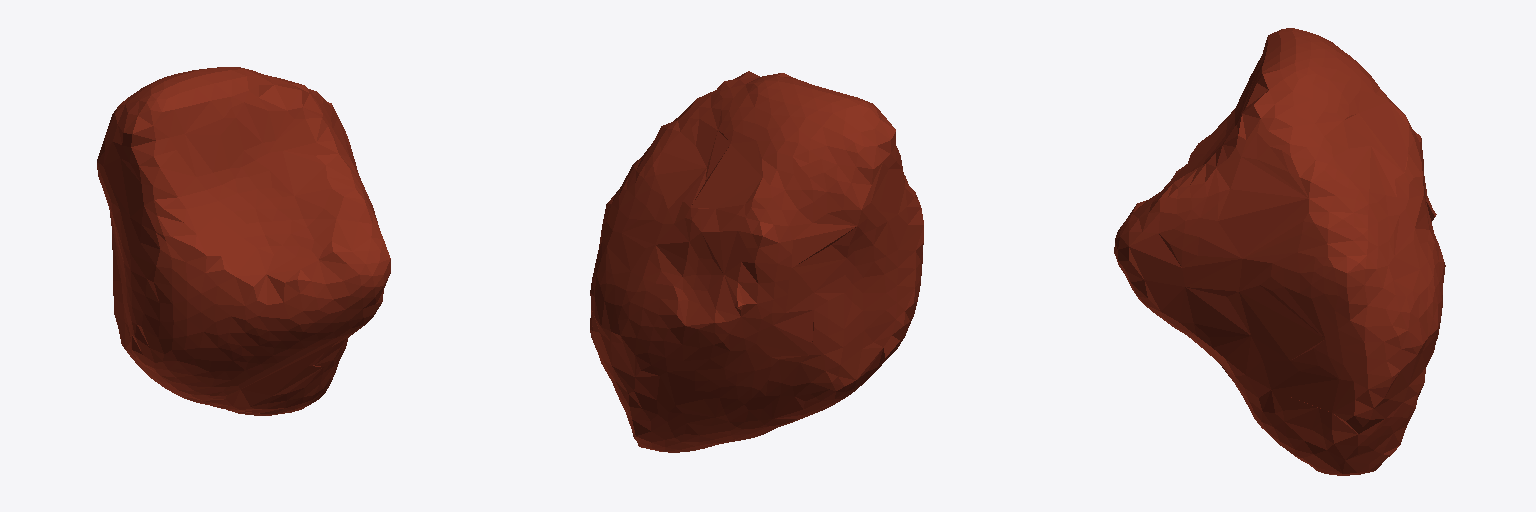
File: Model_10630_LH__Spinal_vestibular_nucleus_(SpVe).obj
3 renders of one model, left to right at view 1: azimuth 30°, elevation 25°; view 2: azimuth 150°, elevation 25°; view 3: azimuth 270°, elevation 25°, orthographic.
Size of the model in its own units: 1.52 by 2.08 by 1.68.